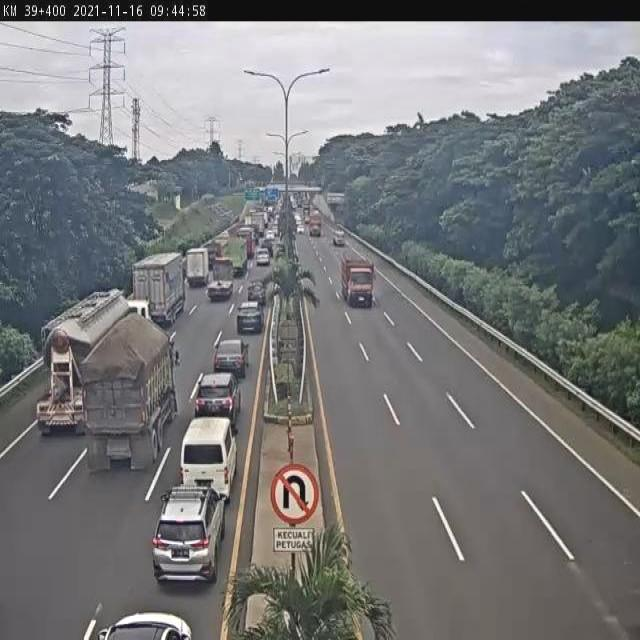Bus: (236, 230, 253, 258)
Car: (151, 486, 227, 586), (96, 609, 195, 640), (194, 370, 243, 428), (212, 338, 251, 378), (236, 300, 264, 334), (246, 280, 266, 305), (255, 248, 270, 266), (260, 239, 274, 258), (264, 229, 275, 244), (296, 224, 306, 235), (296, 216, 303, 225)
Truck: (34, 288, 152, 437), (78, 312, 182, 473), (128, 252, 186, 328), (342, 255, 374, 308), (206, 254, 236, 302), (220, 237, 248, 278), (185, 246, 210, 286), (250, 211, 265, 240), (308, 212, 322, 237), (333, 230, 345, 246), (311, 208, 320, 221), (244, 215, 252, 228), (303, 204, 310, 218)
Van: (177, 414, 238, 504)
